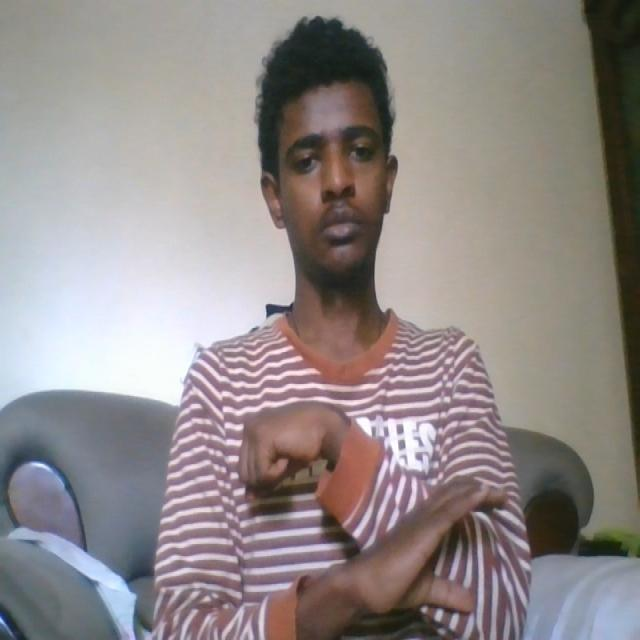hager: (236, 398, 513, 621)
